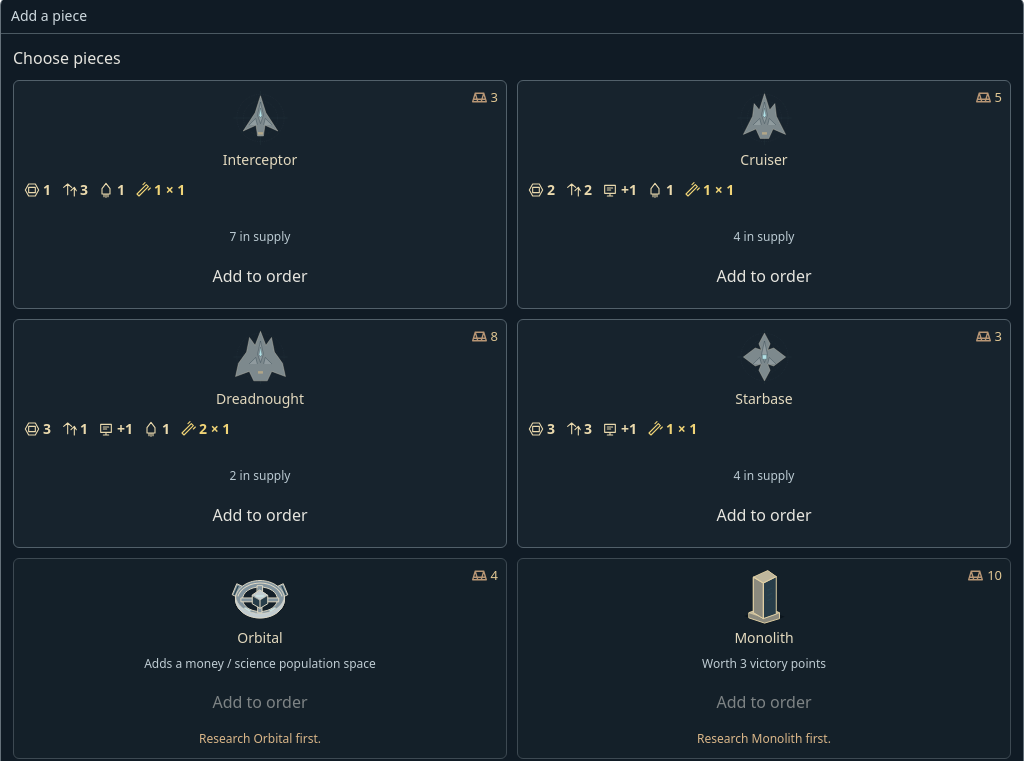
Test: visual build planner › keeps the map primary and exposes the destination catalog on request
Click the button with aria-label "Add interceptor" at (260, 276), box [24,254,496,298]
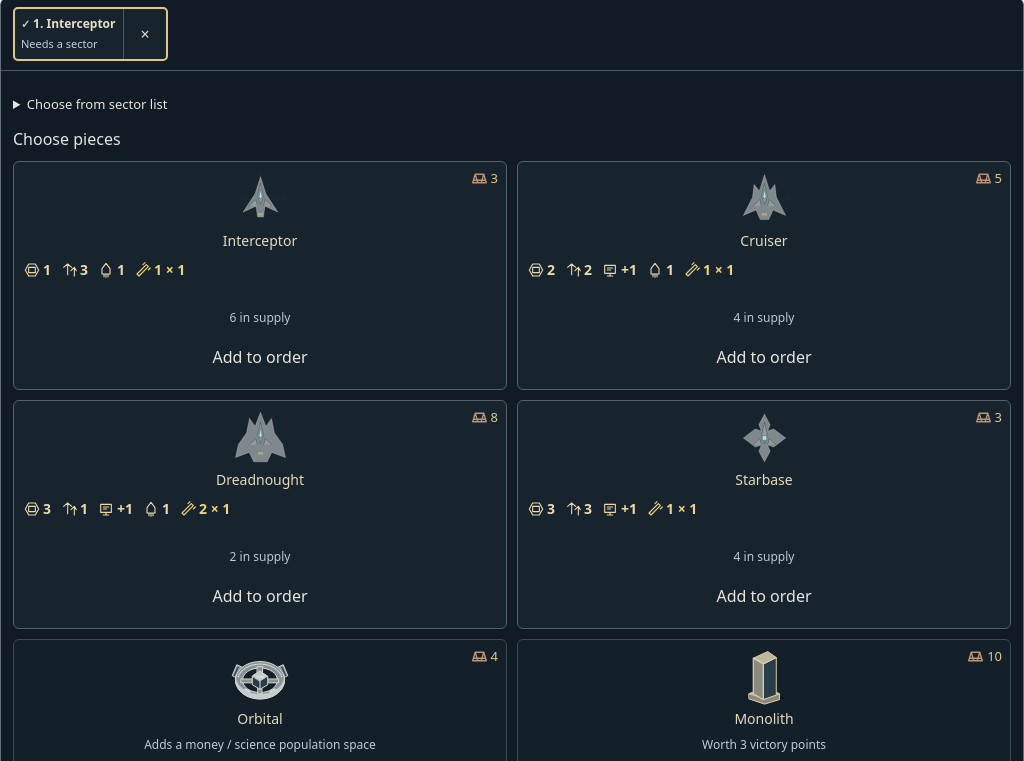
Click the heading "Choose from sector list" at (97, 104), box [27,95,167,113]
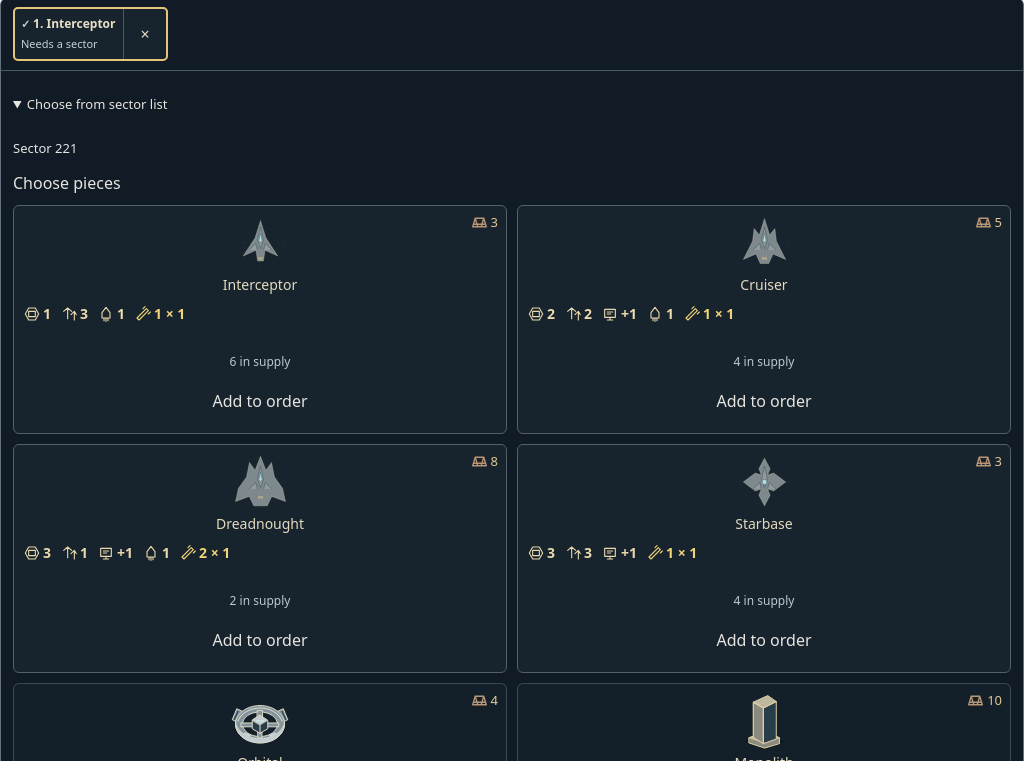
Click the button with aria-label "Place interceptor in sector 221" at (45, 148), box [13,126,77,170]
(page scrolled)
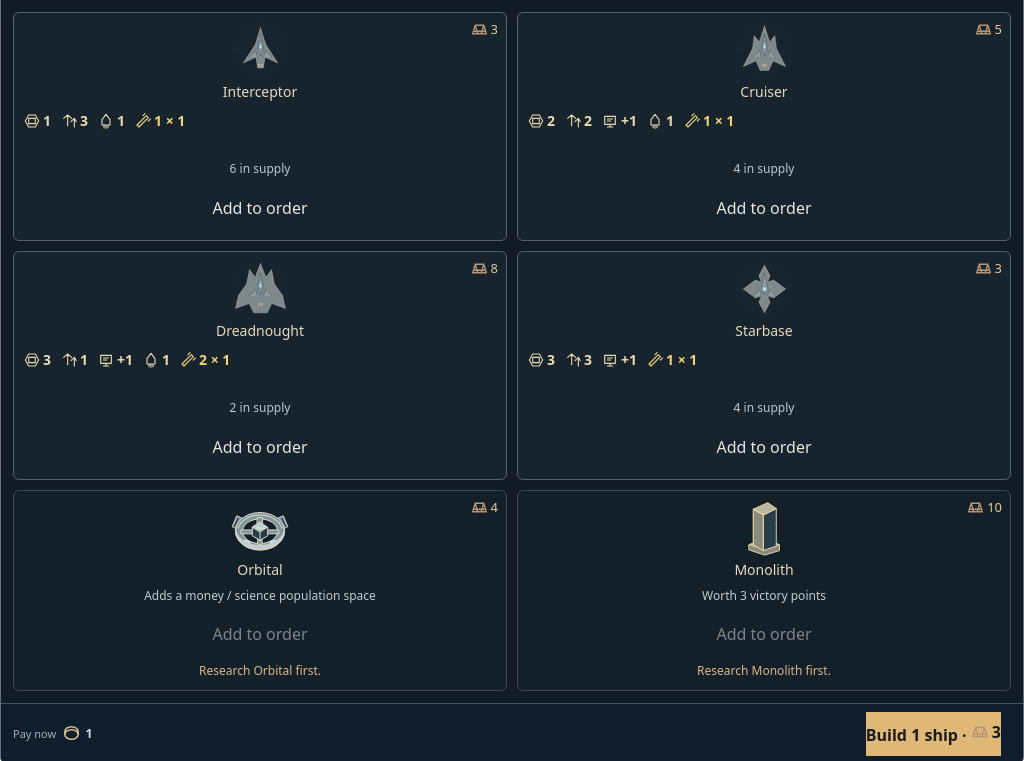
Result: the button "Build 1 ship · 3" is enabled at [866,712,1001,756]
